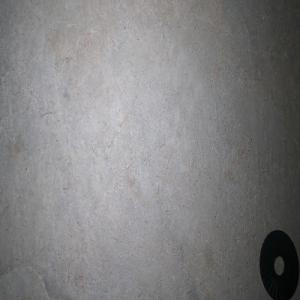Washer: (259, 229, 299, 300)
